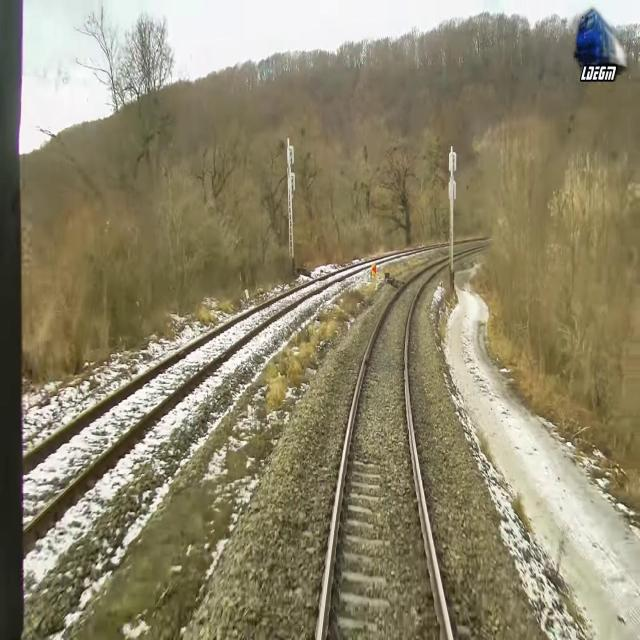rail-track: (0, 254, 397, 549), (321, 258, 449, 639)
